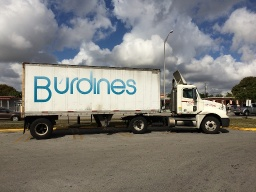truck: (19, 57, 232, 145)
